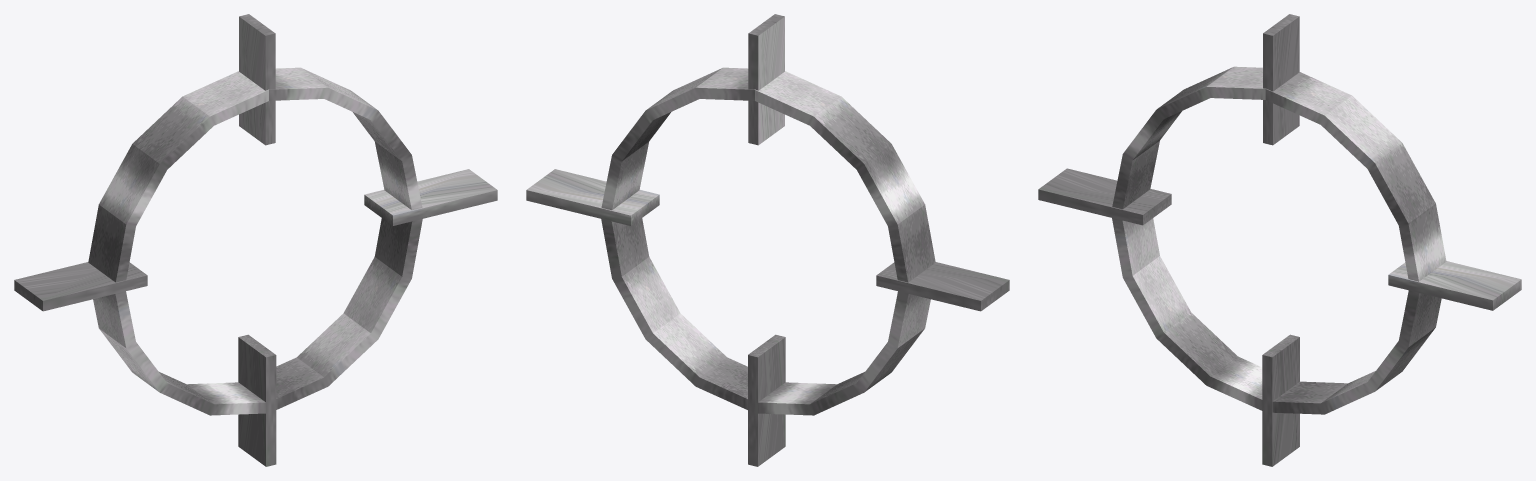
Rendered from boigas_sfw03.obj.
3 views of the same model, side by side, from view 1: azimuth 30°, elevation 25°; view 2: azimuth 150°, elevation 25°; view 3: azimuth 330°, elevation 25° (orthographic).
Visible parts, largest first — view 1: boigas_sfw03; view 2: boigas_sfw03; view 3: boigas_sfw03.
Part boxes in pixels (<box>): boigas_sfw03: <box>14,14,497,466</box>; boigas_sfw03: <box>526,14,1009,466</box>; boigas_sfw03: <box>1038,14,1521,466</box>.
Size of the model in its own units: 10.48 by 9.48 by 1.15.
1 material, 1 textured.
